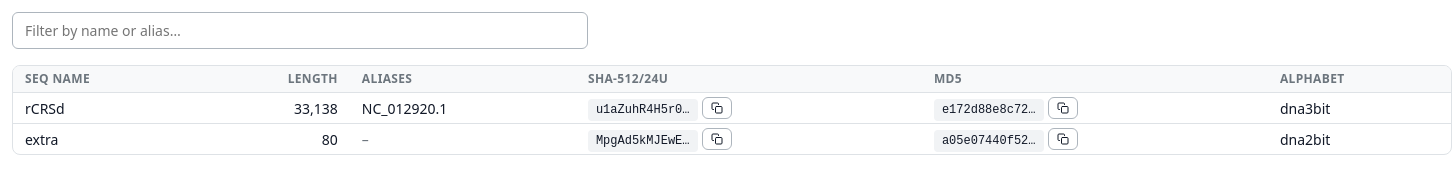
it: SequenceTable › sorts by length, descending on the second click
Click the button "Length".
click(313, 79)  # box [288,70,338,88]
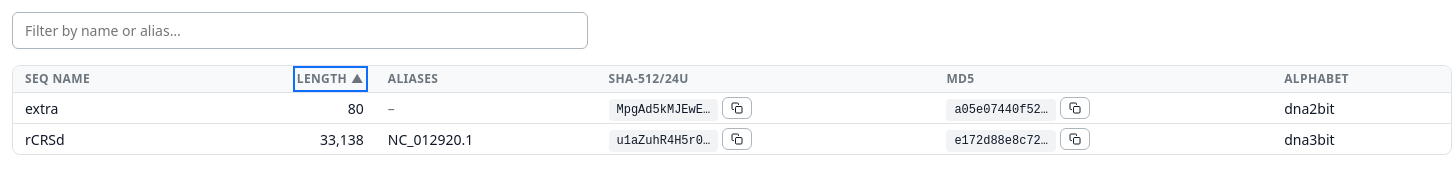
expect the text "extra" is shown: met, box [13,92,192,124]
Click the button "Length ▲".
click(330, 79)  # box [297,70,364,88]
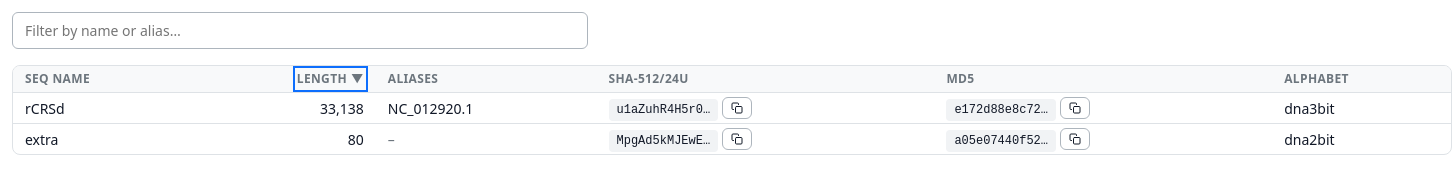
expect the text "rCRSd" is shown: met, box [13,92,192,124]
